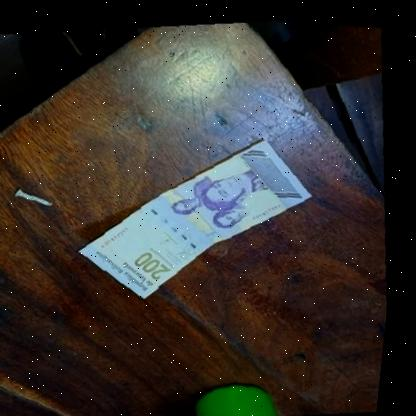two_hundred-front-vef: (71, 121, 329, 311)
